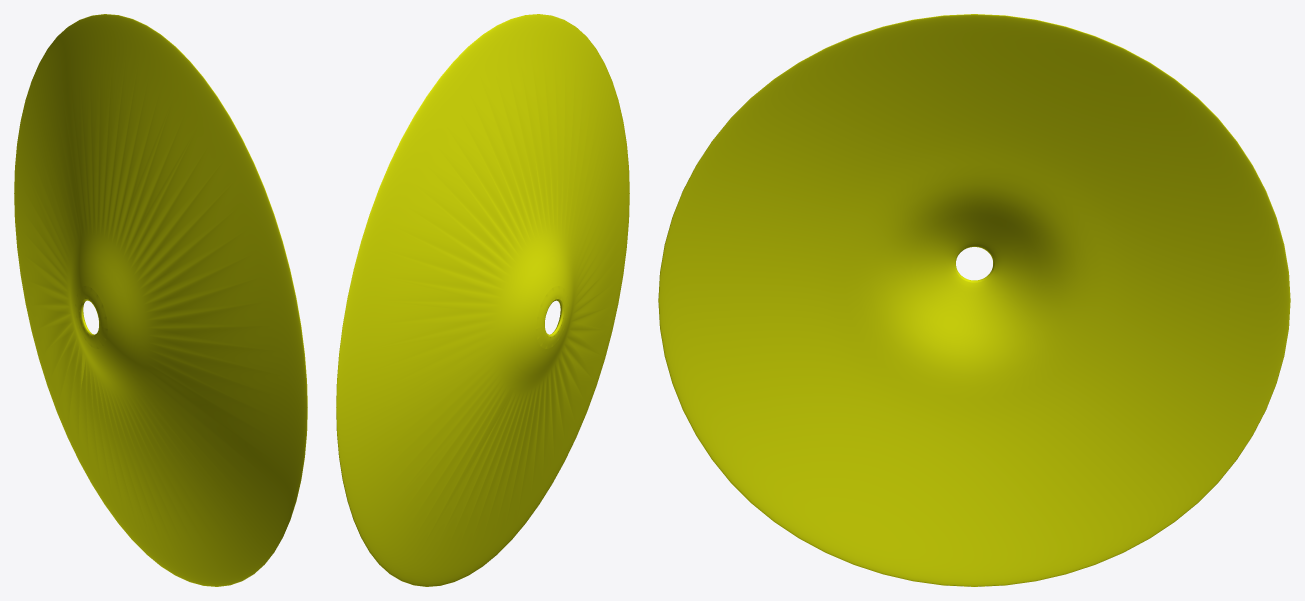
The model's file is CymbalL.fbx.
3 renders of one model, left to right at view 1: azimuth 30°, elevation 25°; view 2: azimuth 150°, elevation 25°; view 3: azimuth 270°, elevation 25°, orthographic. The views are drawn at different scales.
Visible parts, largest first — view 1: CymbalL; view 2: CymbalL; view 3: CymbalL.
Boxes of the visible parts, <box> form: CymbalL: <box>14,14,307,586</box>; CymbalL: <box>336,14,629,586</box>; CymbalL: <box>658,14,1290,586</box>.
Size of the model in its own units: 9.2 by 65.44 by 65.44.
